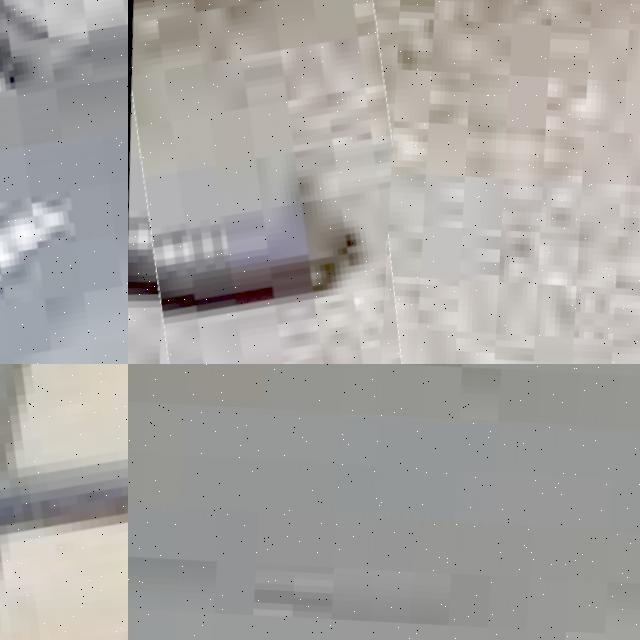drone: (128, 0, 412, 364), (0, 0, 128, 364), (0, 364, 128, 640)
